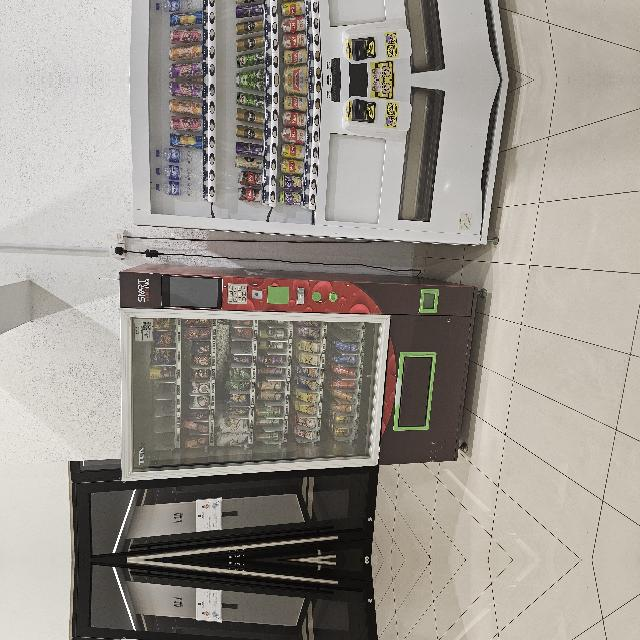obstacle: (74, 196, 296, 570), (310, 200, 480, 600), (310, 520, 480, 640), (74, 550, 296, 640)
